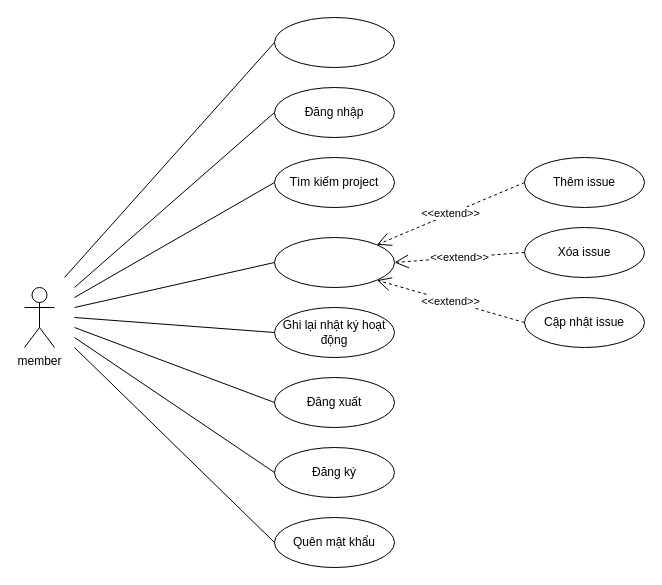
This 662x585 diagram has some shape labels left out. The centre of each missing label's shape, as x and y in pixels:
Quản lý issue: (334,262)
Xem báo cáo: (334,42)
